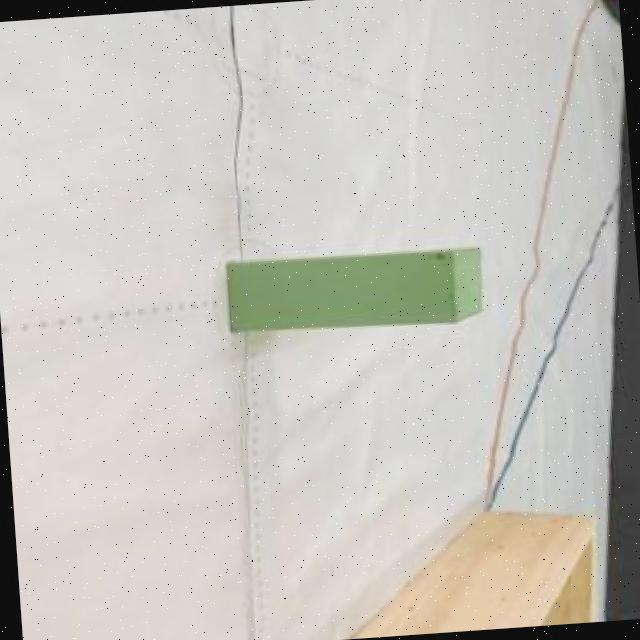greenbox: (220, 244, 490, 344)
